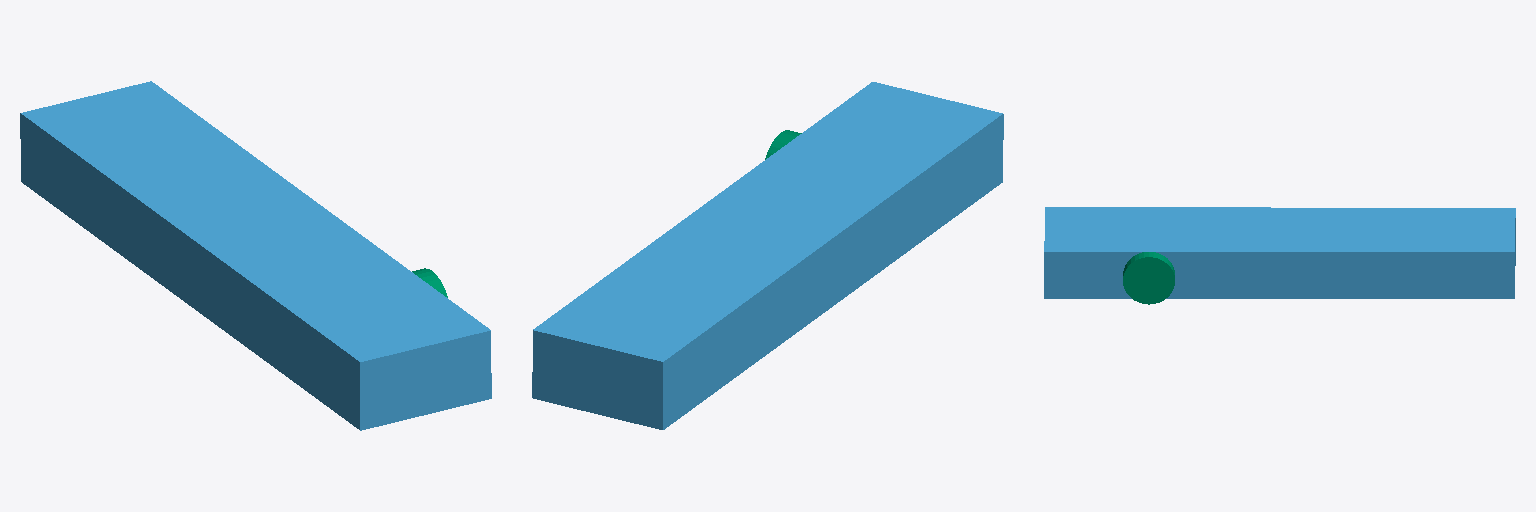
The robot description file, URDF, robot "xtion":
<?xml version="1.0"?>
<!-- From: manipulation_tracking:e50a61e:urdf/xtion.urdf -->
<robot
  name="xtion">
  <link name="xtion_base"/>
  <joint name="xtion_base" type="fixed">
    <parent link="xtion_base"/>
    <child link="xtion"/>
    <origin xyz="0 0 0" rpy="1.57 0 1.57"/>
  </joint>

  <link name="xtion">
    <visual>
      <geometry>
        <box size="0.18 0.02 0.04"/>
      </geometry>
        <origin xyz="0.05 0 -0.02" rpy="0 0 0"/>
    </visual>
    <collision>
      <geometry>
        <box size="0.18 0.02 0.04"/>
      </geometry>
        <origin xyz="0.05 0 -0.02" rpy="0 0 0"/>
    </collision>
    <inertial>
      <mass value="0.1"/>
      <inertia ixx="0.01" ixy="0.0" ixz="0.0" iyy="0.01" iyz="0.0" izz="0.01"/>
      <origin xyz="0 0 0"/>
    </inertial>
  </link>
  
  <!-- purely to indicate forward direction -->
  <link name="lens_visual">
    <visual>
      <geometry>
        <cylinder length="0.01" radius="0.01"/>
      </geometry>
    </visual>
  </link>
  <joint name="xtion_to_lens" type="fixed">
    <parent link="xtion"/>
    <child link="lens_visual"/>
    <origin rpy="0 0.0 0" xyz="0.0 0 0.0"/>
  </joint>

</robot>

--- Facts derived from the render (not from the file) ---
The picture shows the robot from 3 angles, left to right: view 1: azimuth 30°, elevation 25°; view 2: azimuth 150°, elevation 25°; view 3: azimuth 270°, elevation 25°; orthographic projection.
Model xtion with 3 links and 2 joints (2 fixed), rooted at xtion_base, posed all joints at 0.
Links seen in each view (by area): view 1: xtion; view 2: xtion; view 3: xtion, lens_visual.
Boxes of the visible links, <box> form: xtion: <box>20,81,491,430</box>; xtion: <box>532,82,1003,429</box>; xtion: <box>1044,207,1515,298</box>; lens_visual: <box>1123,252,1174,304</box>.
Size in the robot's own frame: 0.0451 by 0.18 by 0.02 metres.
Geometry: primitives only (box / cylinder / sphere), no mesh files.